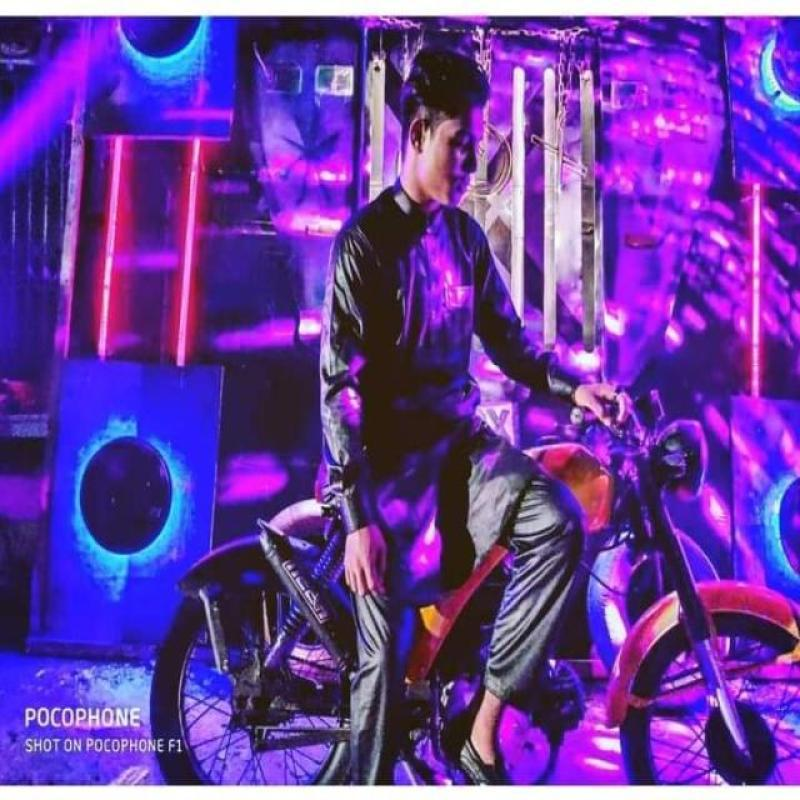nohelmet: (350, 48, 511, 218)
